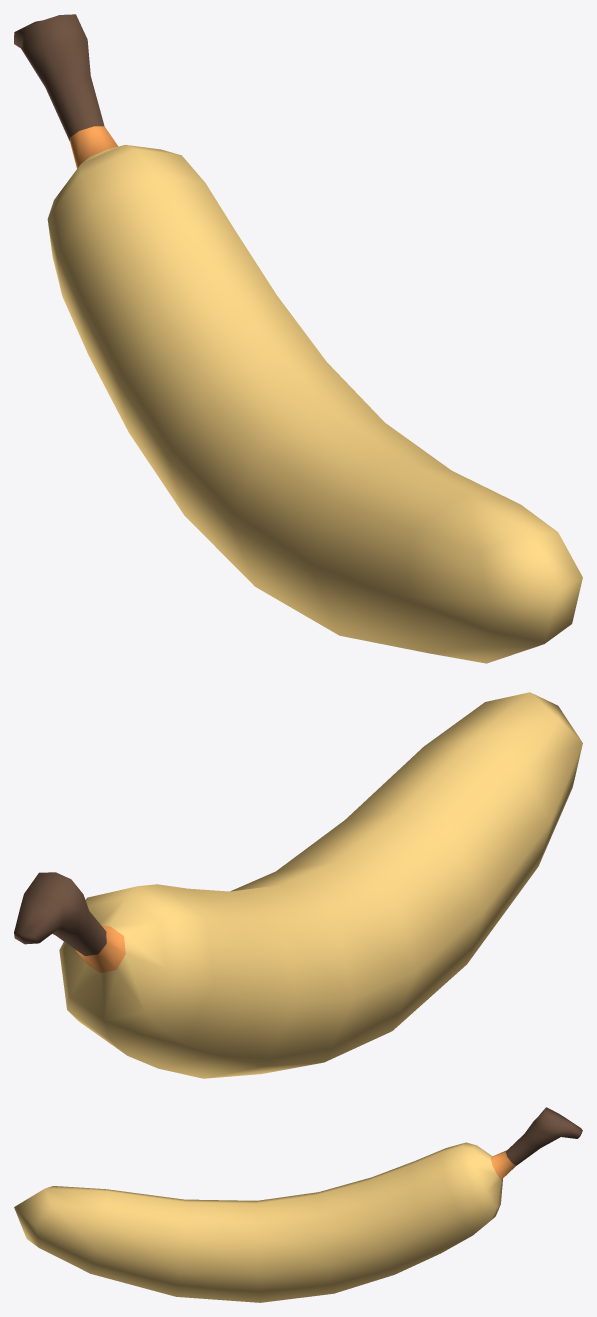
The model's file is banana.fbx.
3 renders of one model, top to bottom at view 1: azimuth 30°, elevation 25°; view 2: azimuth 150°, elevation 25°; view 3: azimuth 270°, elevation 25°, orthographic. The views are drawn at different scales.
Visible parts, largest first — view 1: banana; view 2: banana; view 3: banana.
Part boxes in pixels (x1,y1,x2,y2): banana: (14, 14, 582, 663); banana: (14, 692, 582, 1078); banana: (14, 1107, 582, 1302).
Bounding box in the file's own units: 10.62 × 21.76 × 57.81.
